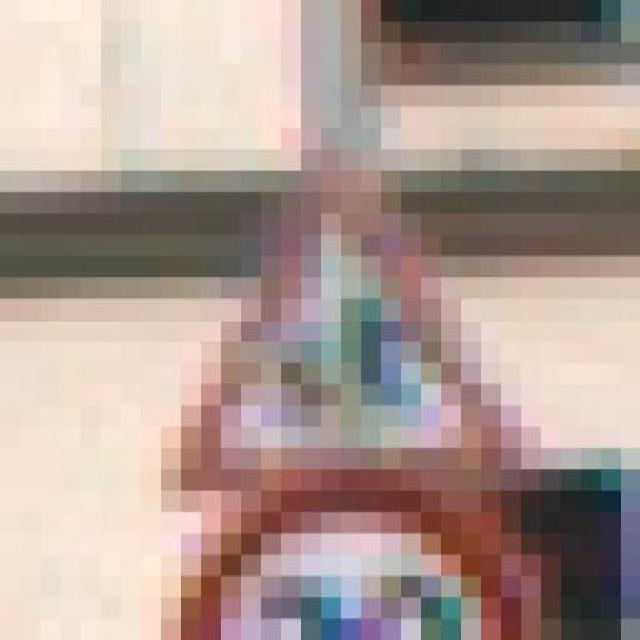Beware of children: (120, 149, 540, 491)
